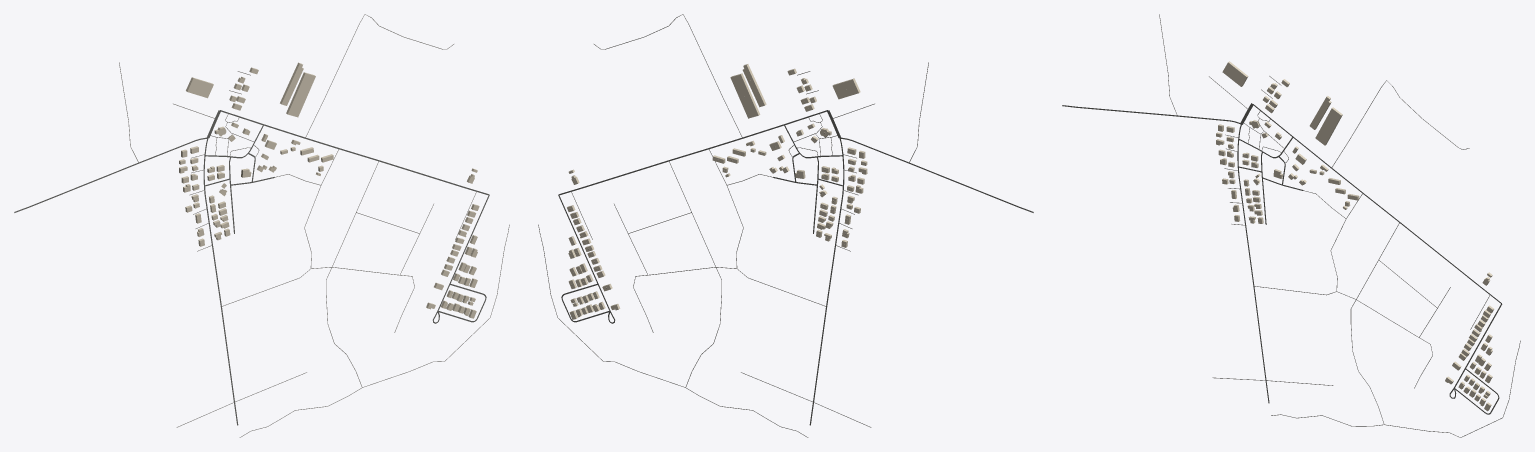
The model's file is historic-palestine-04_22_3462_3165.glb.
3 renders of one model, left to right at view 1: azimuth 30°, elevation 25°; view 2: azimuth 150°, elevation 25°; view 3: azimuth 330°, elevation 25°, orthographic. The views are drawn at different scales.
Visible parts, largest first — view 1: Building_.039, Road .002; view 2: Building_.039, Road .002; view 3: Building_.039, Road .002.
Boxes of the visible parts, x1,y1,x2,y2 form: Building_.039: [286, 72, 315, 117]; Road .002: [220, 110, 489, 195]; Building_.039: [730, 73, 760, 118]; Road .002: [558, 110, 827, 195]; Building_.039: [1315, 107, 1342, 145]; Road .002: [1252, 104, 1501, 303].
Size of the model in its own units: 1342 by 1048 by 8.7.
